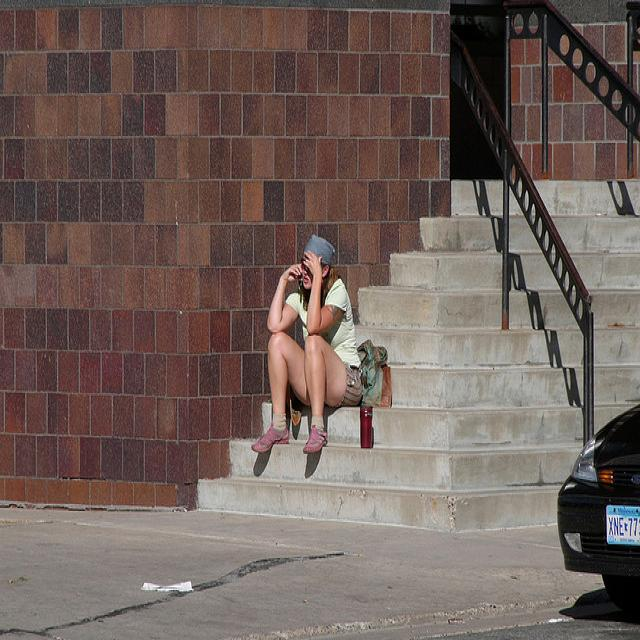Vehicle: (558, 400, 640, 621)
